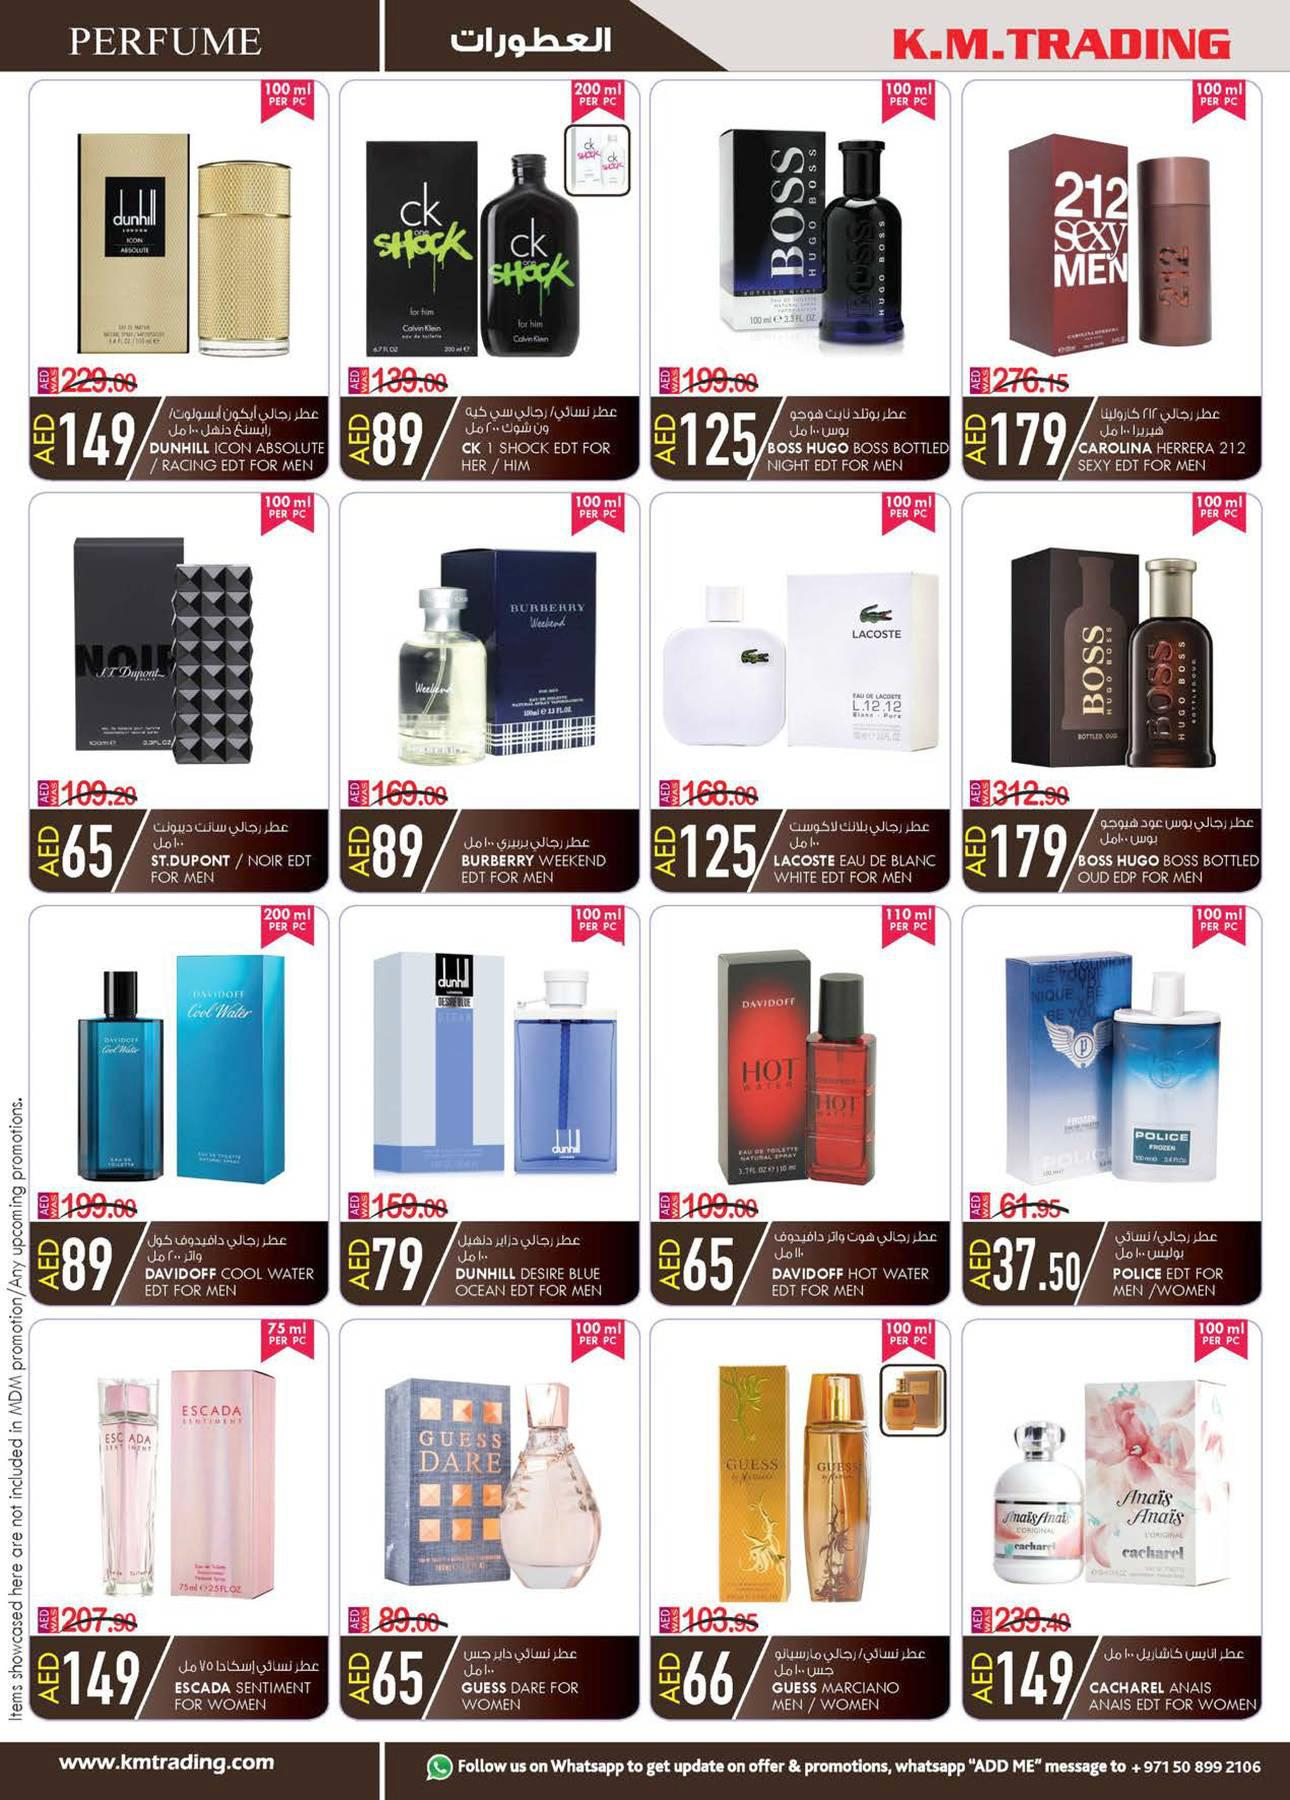text: (759, 398, 951, 483), (764, 809, 949, 896), (437, 1224, 635, 1305), (447, 402, 639, 481), (144, 398, 327, 481), (1069, 399, 1255, 481), (755, 1640, 944, 1720), (1071, 811, 1261, 890), (142, 811, 327, 892), (762, 1222, 949, 1302), (133, 1227, 322, 1302), (443, 818, 625, 894), (1079, 1641, 1261, 1716), (448, 1640, 603, 1718), (1103, 1222, 1240, 1303), (170, 1651, 325, 1718)
